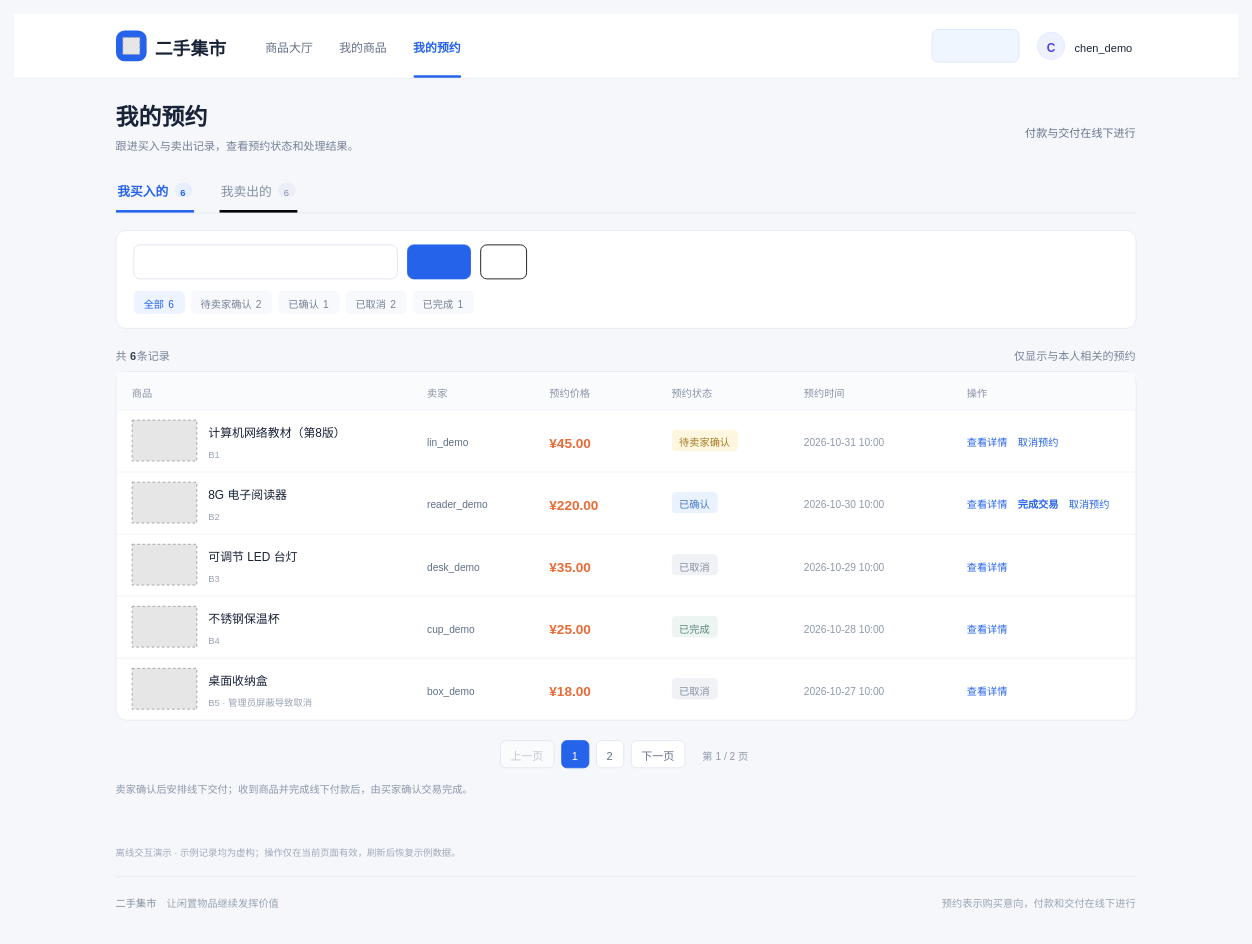
This 1252x944 diagram has some shape labels left out. Grey dashed boxes stand in for pictures. The shapes that lost their labels are listed below. From the top down, each one's centre as x and y in pixels, then its label:
At point 975,45: "＋ 发布商品".
At point 265,261: "搜索预约中的商品名称".
At point 438,261: "查询".
At point 503,261: "重置".
